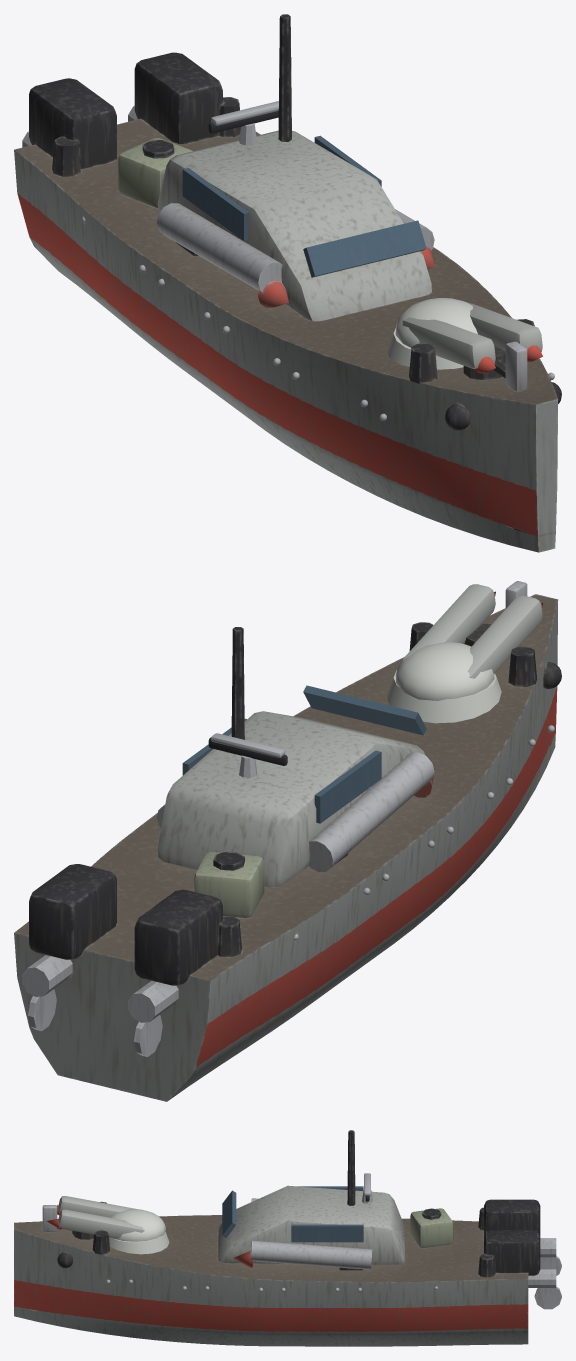
File: speedboat.glb
The picture shows the model from 3 angles, top to bottom: view 1: azimuth 30°, elevation 25°; view 2: azimuth 150°, elevation 25°; view 3: azimuth 270°, elevation 25°; orthographic projection. The views are drawn at different scales.
Visible parts, largest first — view 1: Hull, Barrel, Turret, Spin; view 2: Hull, Turret, Barrel, Spin; view 3: Hull, Barrel, Turret.
Part boxes in pixels (x1,y1,x2,y2): Hull: (14, 14, 561, 552); Barrel: (402, 303, 542, 373); Turret: (387, 298, 477, 369); Spin: (208, 101, 278, 145); Hull: (14, 581, 561, 1101); Turret: (387, 642, 501, 723); Barrel: (402, 584, 542, 678); Spin: (208, 733, 287, 777); Hull: (14, 1130, 561, 1346); Barrel: (46, 1196, 144, 1238); Turret: (109, 1209, 169, 1254).
Bounding box in the file's own units: 1.96 × 2.8 × 6.82.
13 materials, 8 textured.
